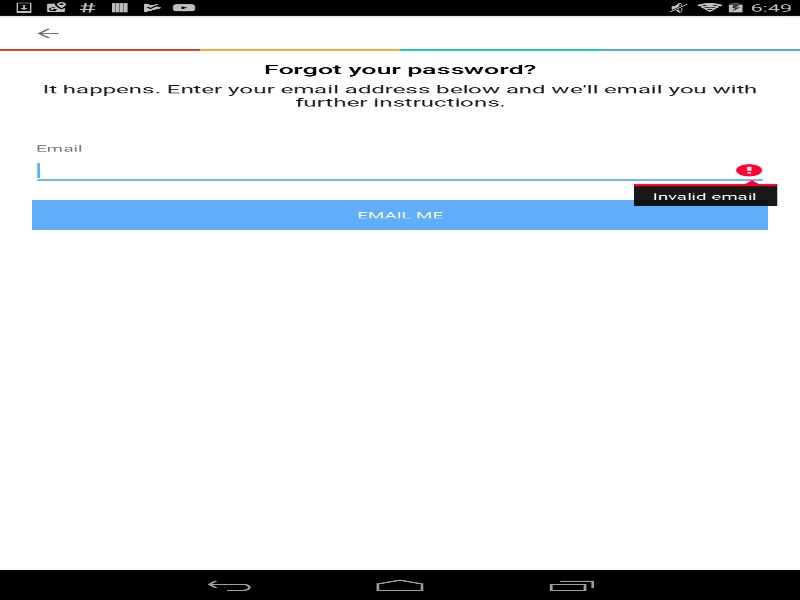Button: (32, 200, 768, 230), (10, 17, 85, 49)
Input: (32, 156, 768, 185)
